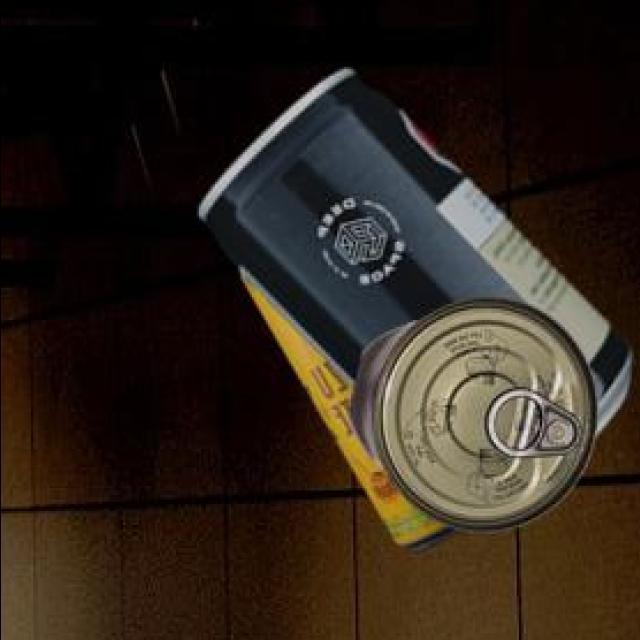logam: (195, 66, 627, 429), (237, 268, 455, 547), (344, 294, 593, 528)
